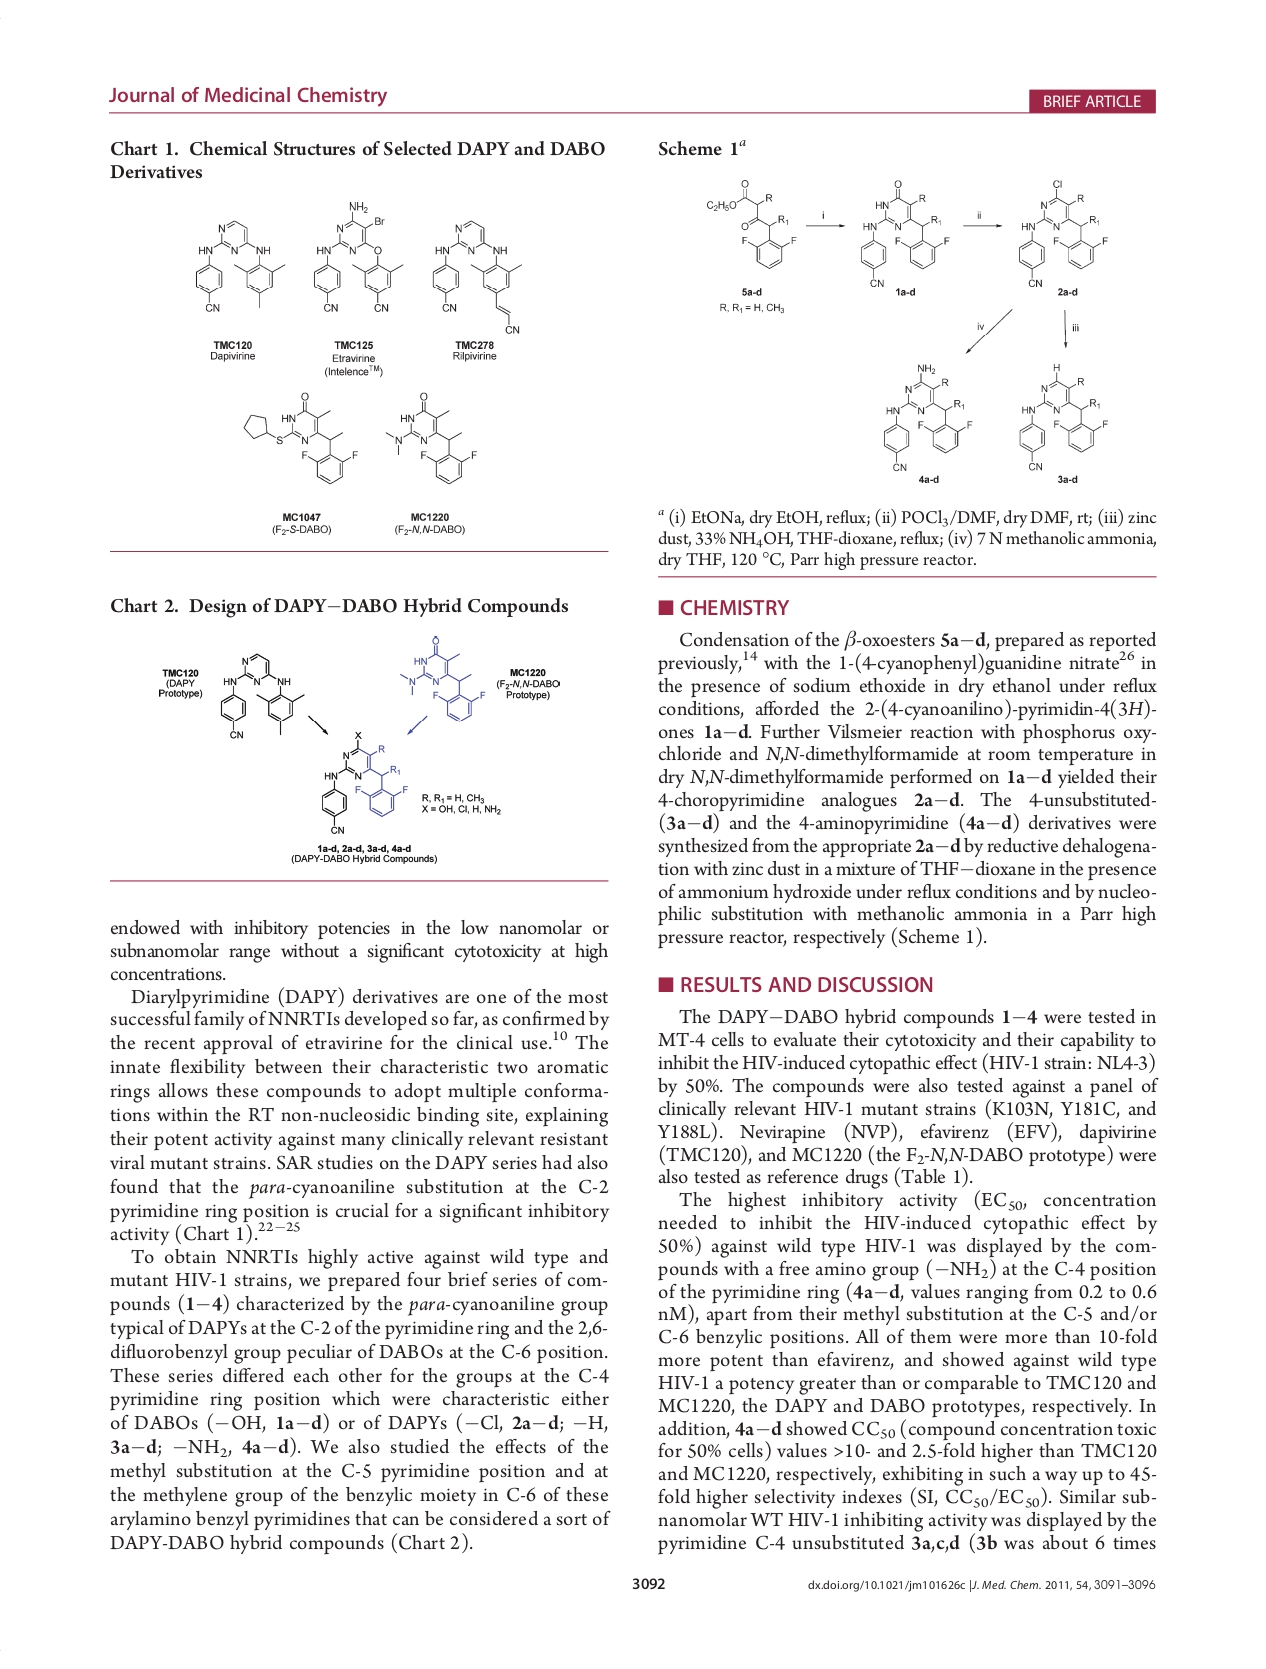exist_molecular: (235, 390, 360, 489), (428, 217, 524, 336), (1015, 358, 1110, 473), (1013, 176, 1109, 290), (856, 176, 952, 289), (382, 383, 483, 488), (311, 199, 403, 314), (880, 360, 973, 472), (319, 727, 410, 836), (191, 215, 289, 317), (703, 176, 797, 271), (215, 648, 307, 741), (398, 633, 488, 723)
